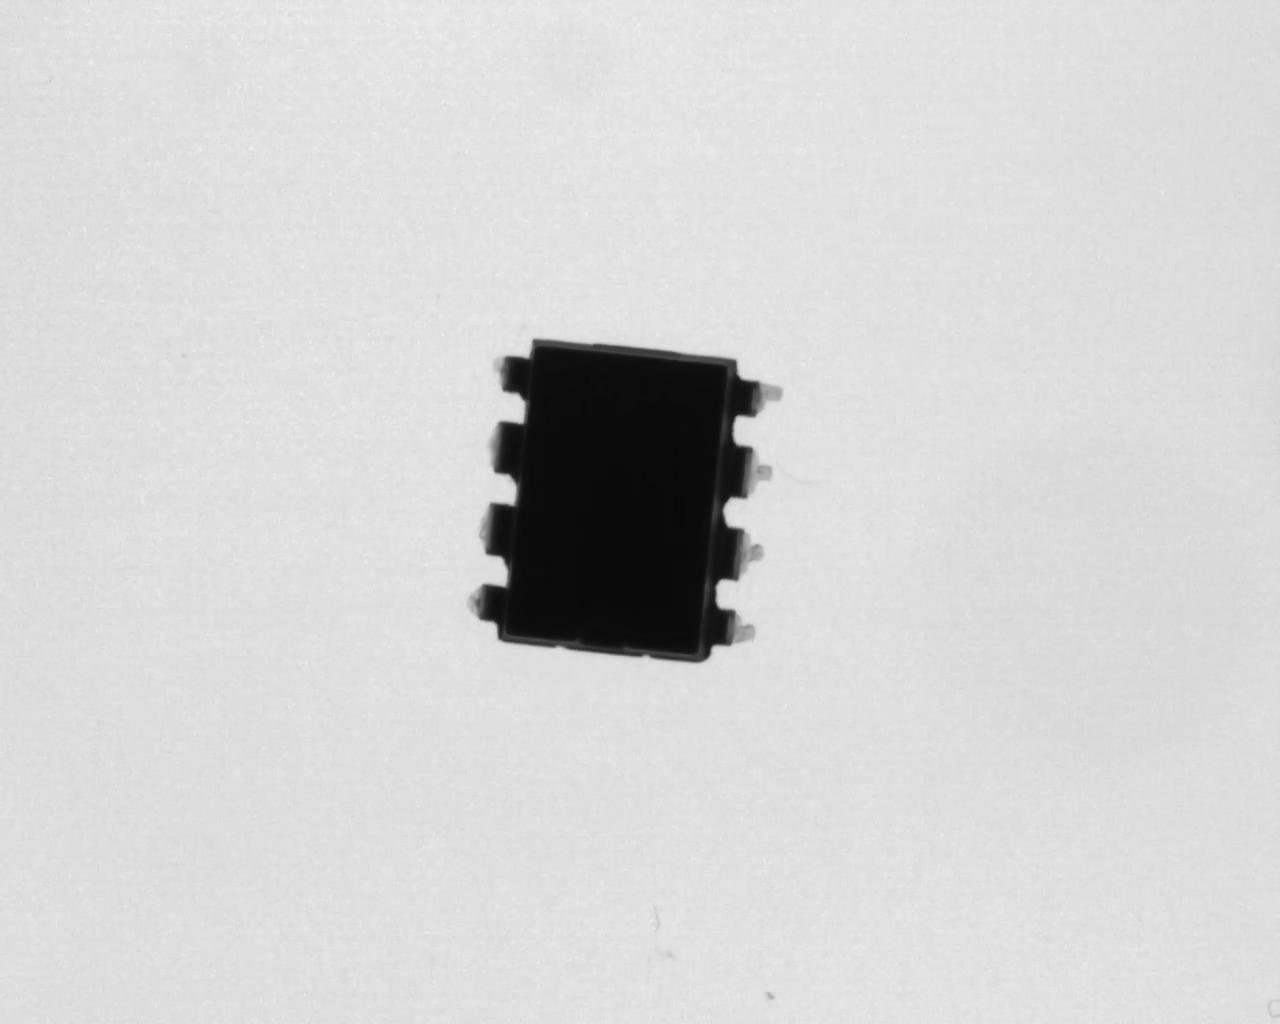Leg: (722, 440, 788, 514), (470, 412, 529, 484), (692, 606, 771, 658), (453, 577, 525, 633), (714, 520, 770, 590), (731, 367, 792, 427), (459, 498, 516, 561), (476, 349, 535, 401)
